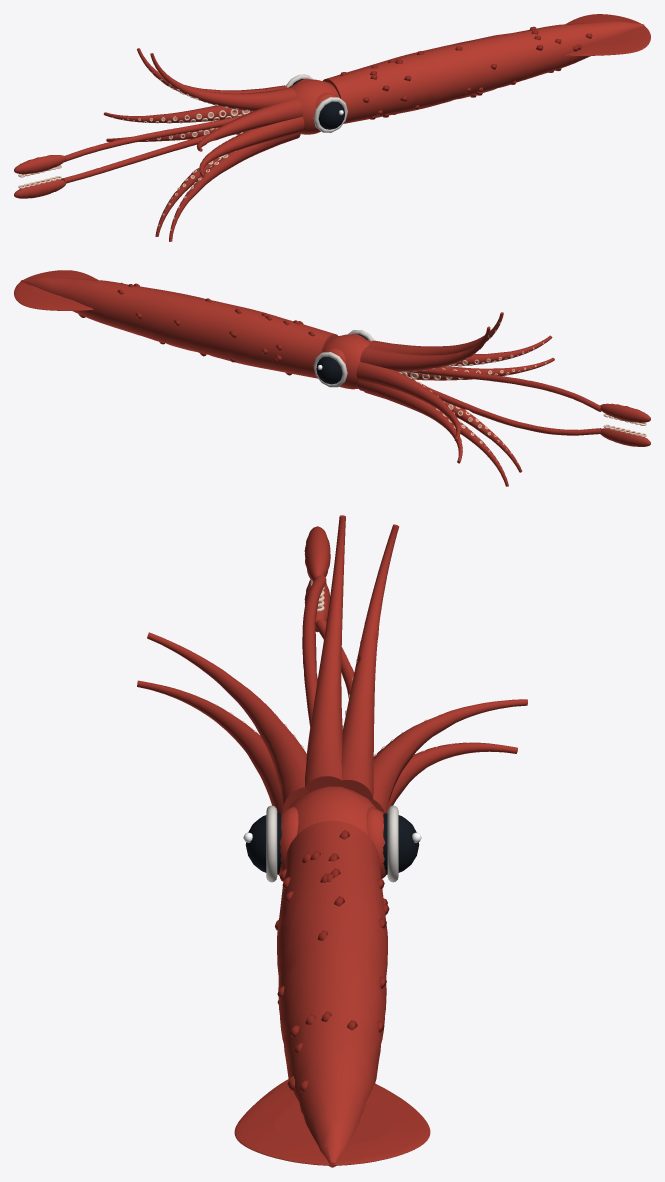
The model's file is giantsquid.glb.
3 views of the same model, one above another, from view 1: azimuth 30°, elevation 25°; view 2: azimuth 150°, elevation 25°; view 3: azimuth 270°, elevation 25° (orthographic). The views are drawn at different scales.
Parts seen in each view (by area): view 1: Mantle, Arms, Fins, SuckerRims, Spots, Eyes, EyeRims; view 2: Mantle, Arms, Fins, SuckerRims, Eyes, Spots, EyeRims; view 3: Mantle, Arms, Fins, Eyes, Spots, EyeRims.
Part boxes in pixels (x1,y1,x2,y2): Mantle: [288, 21, 644, 134]; Arms: [14, 48, 304, 241]; Fins: [565, 14, 650, 55]; SuckerRims: [18, 59, 253, 230]; Spots: [340, 26, 592, 119]; Eyes: [293, 79, 344, 129]; EyeRims: [286, 74, 347, 132]; Mantle: [20, 277, 370, 389]; Arms: [356, 312, 650, 486]; Fins: [14, 270, 98, 310]; SuckerRims: [398, 322, 646, 475]; Eyes: [316, 334, 367, 384]; Spots: [69, 279, 315, 375]; EyeRims: [313, 330, 374, 387]; Mantle: [277, 786, 387, 1167]; Arms: [137, 515, 527, 813]; Fins: [234, 1078, 430, 1165]; Eyes: [245, 813, 419, 874]; Spots: [275, 830, 389, 1106]; EyeRims: [266, 805, 398, 882].
Bounding box in the file's own units: 0.2431 × 0.0657 × 0.0657.
